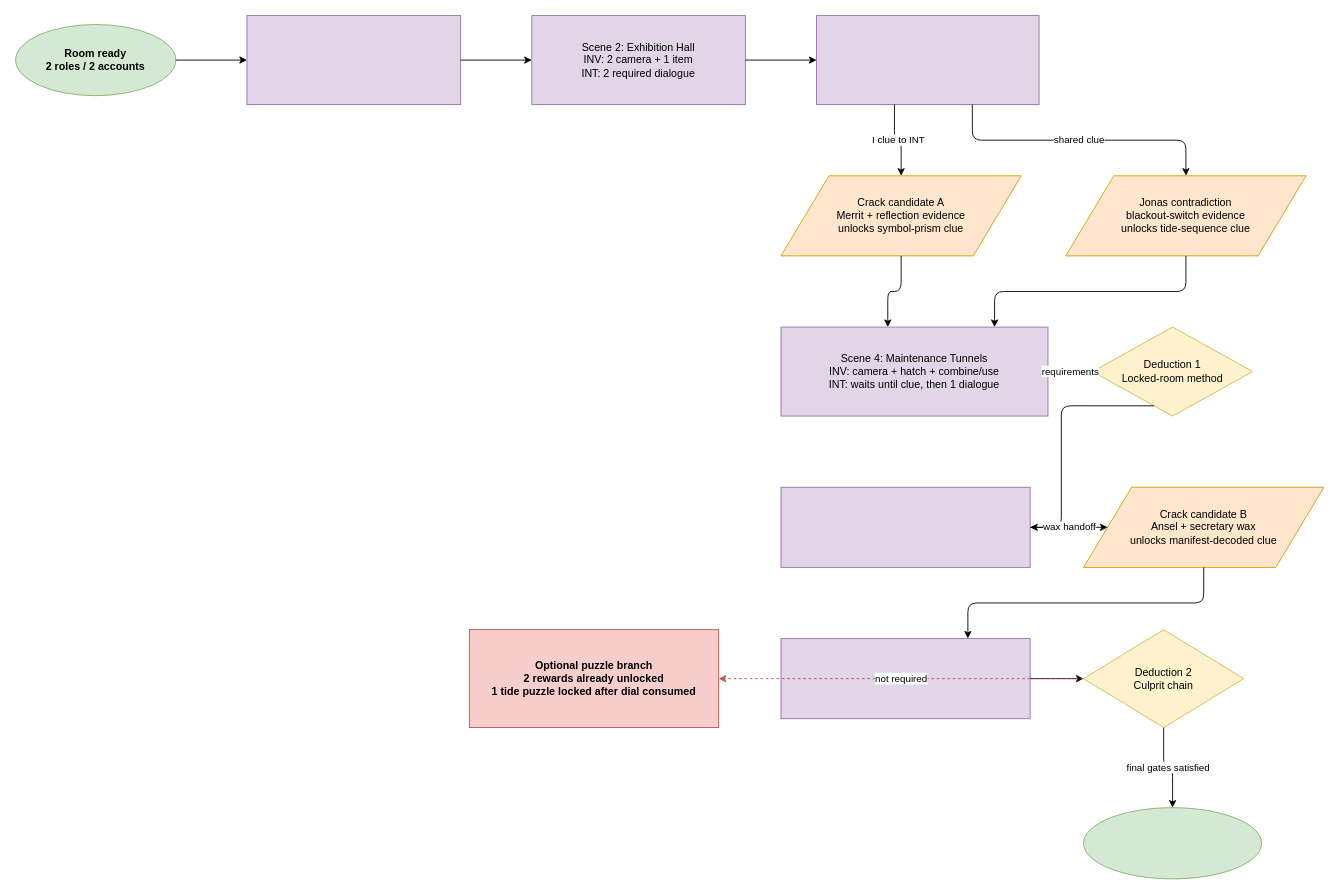
Image size: 1339x894. Some labels were removed from this diagram. Each missing label, with the centre of its shape:
"Correct accusation Case completed" belongs at [1172,843].
"Scene 1: Meridian Gallery INV: 2 camera + 1 item INT: 2 required dialogue" belongs at [353,60].
"Scene 3: Rainwalk INV: reflection + footprints + dial INT: Jonas dialogue" belongs at [927,60].
"Scene 5: Cartographers' Annex INV: secretary wax INT: 2 dialogue" belongs at [905,526].
"Scene 6: Clocktower INV: timing clue INT: 2 dialogue" belongs at [905,678].
